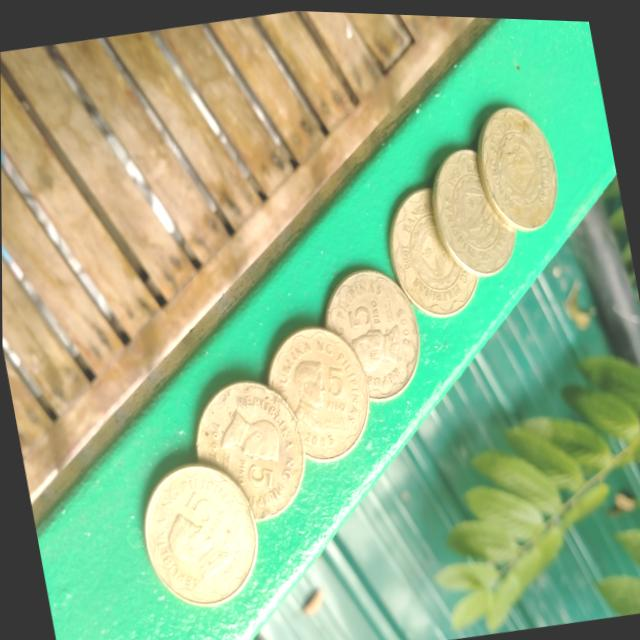5_Old_Back: (433, 155, 516, 266)
5_Old_Front: (202, 386, 297, 507), (329, 275, 415, 386)
